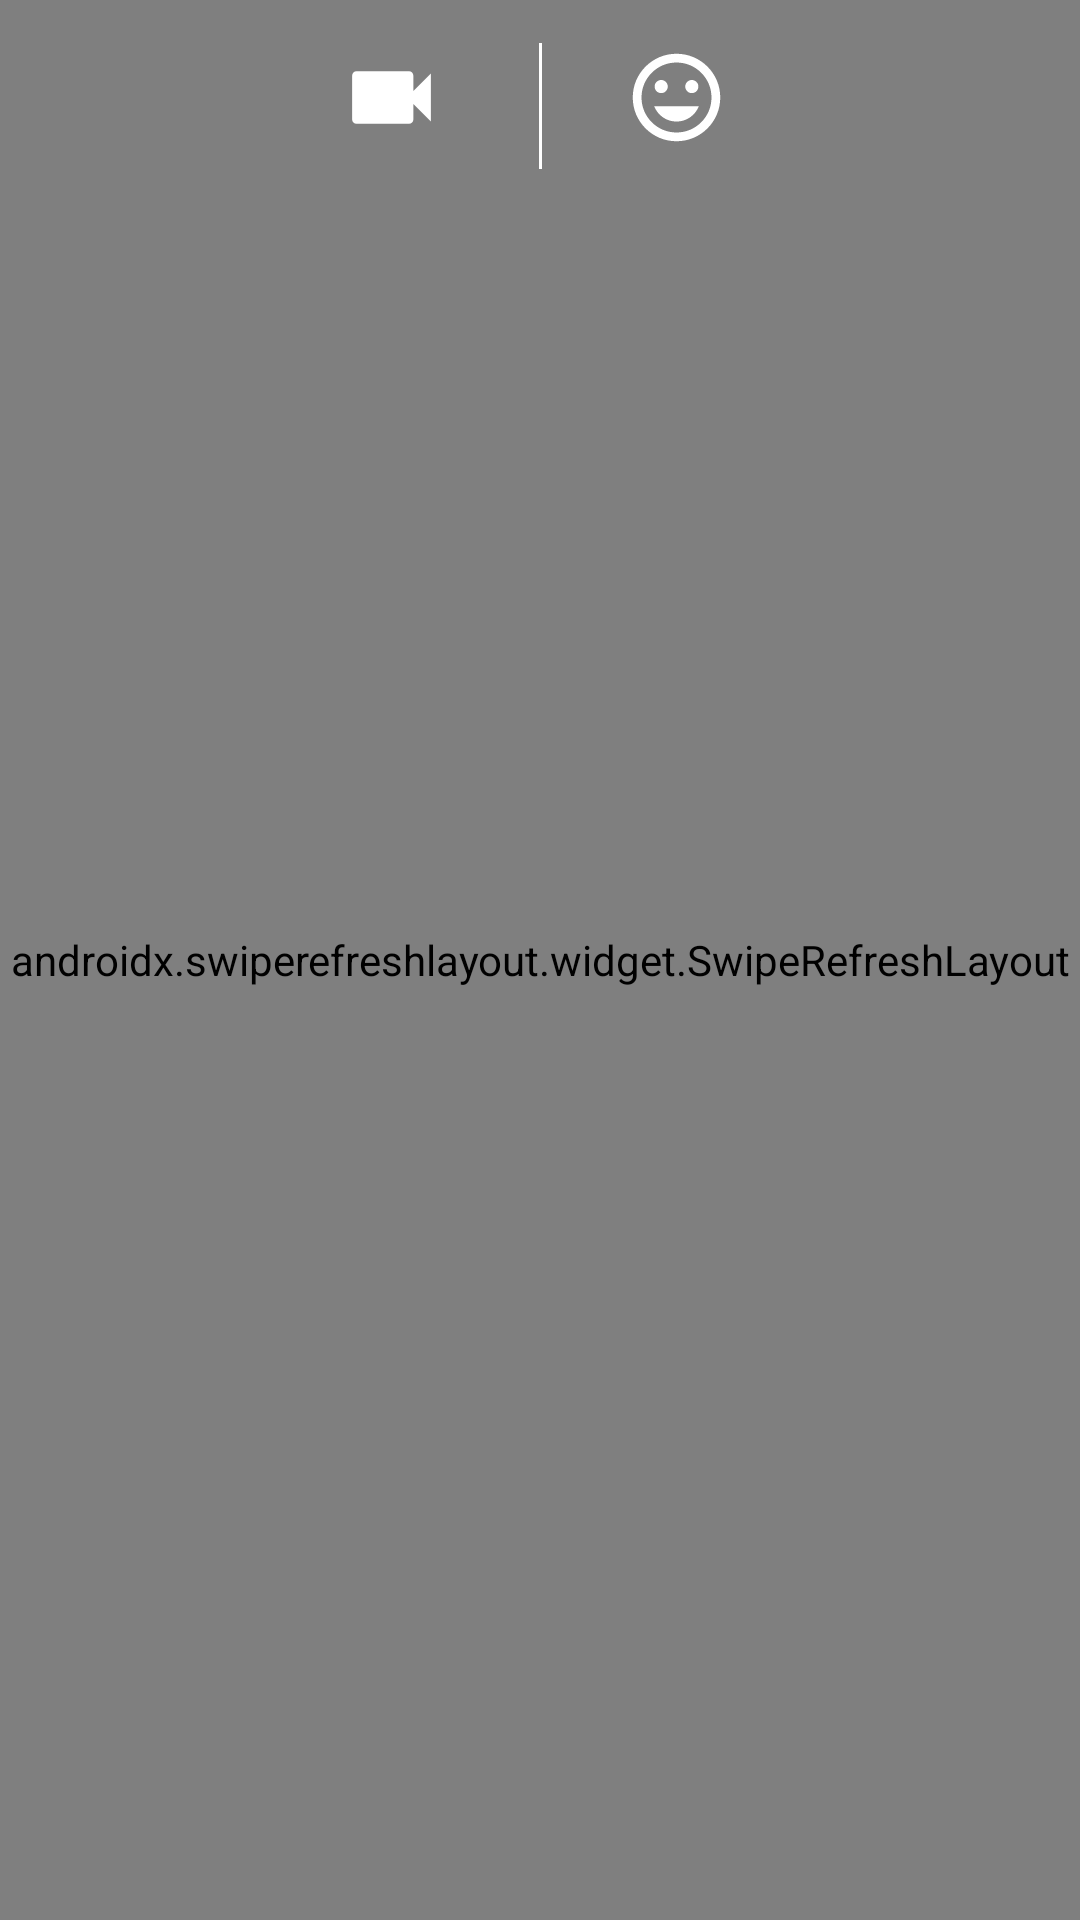

Point at icon controls on the screen. Image size 1080*1920, points as [x,y].
happy: [676,97]
videocam: [391,97]
